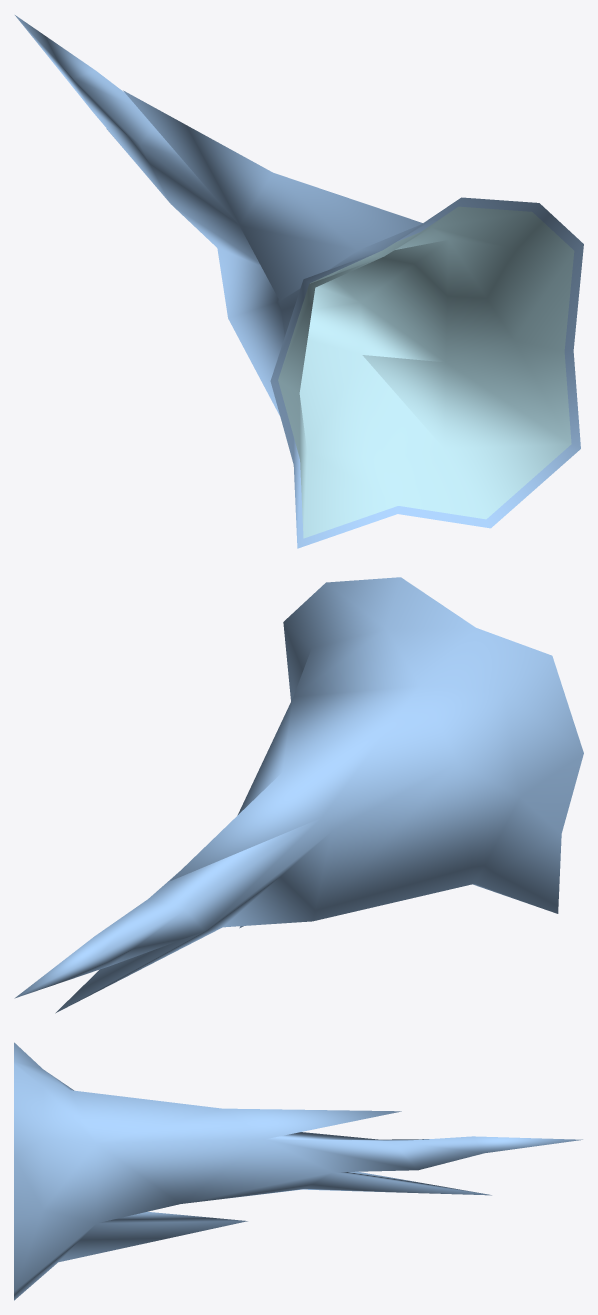
3 renders of one model, top to bottom at view 1: azimuth 30°, elevation 25°; view 2: azimuth 150°, elevation 25°; view 3: azimuth 270°, elevation 25°, orthographic. The views are drawn at different scales.
Visible parts, largest first — view 1: Object112; view 2: Object112; view 3: Object112.
Part boxes in pixels (box(x1,y1,x2,y2)): Object112: box(15, 15, 583, 548); Object112: box(14, 577, 583, 1013); Object112: box(14, 1042, 582, 1300).
Size of the model in its own units: 7190 by 7411 by 16900.
